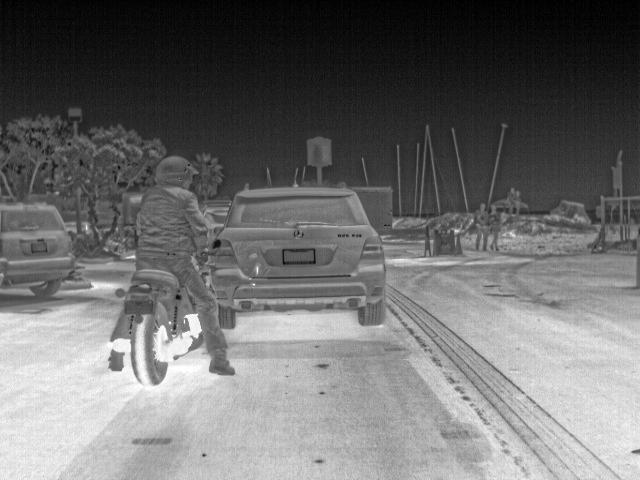car: (207, 184, 385, 329), (3, 197, 77, 299)
person: (105, 157, 239, 378), (470, 203, 490, 252), (487, 204, 503, 254)
